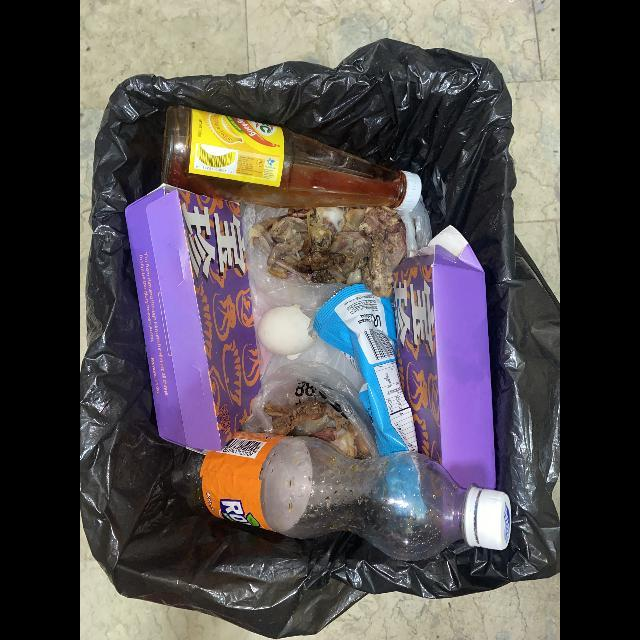biowaste: (250, 207, 407, 298), (310, 403, 370, 459), (258, 304, 316, 359), (265, 401, 326, 435)
glass: (162, 107, 422, 210)
paper: (124, 185, 261, 454), (395, 225, 496, 490)
plastic: (171, 431, 512, 561)
wrapper: (313, 284, 418, 457)
